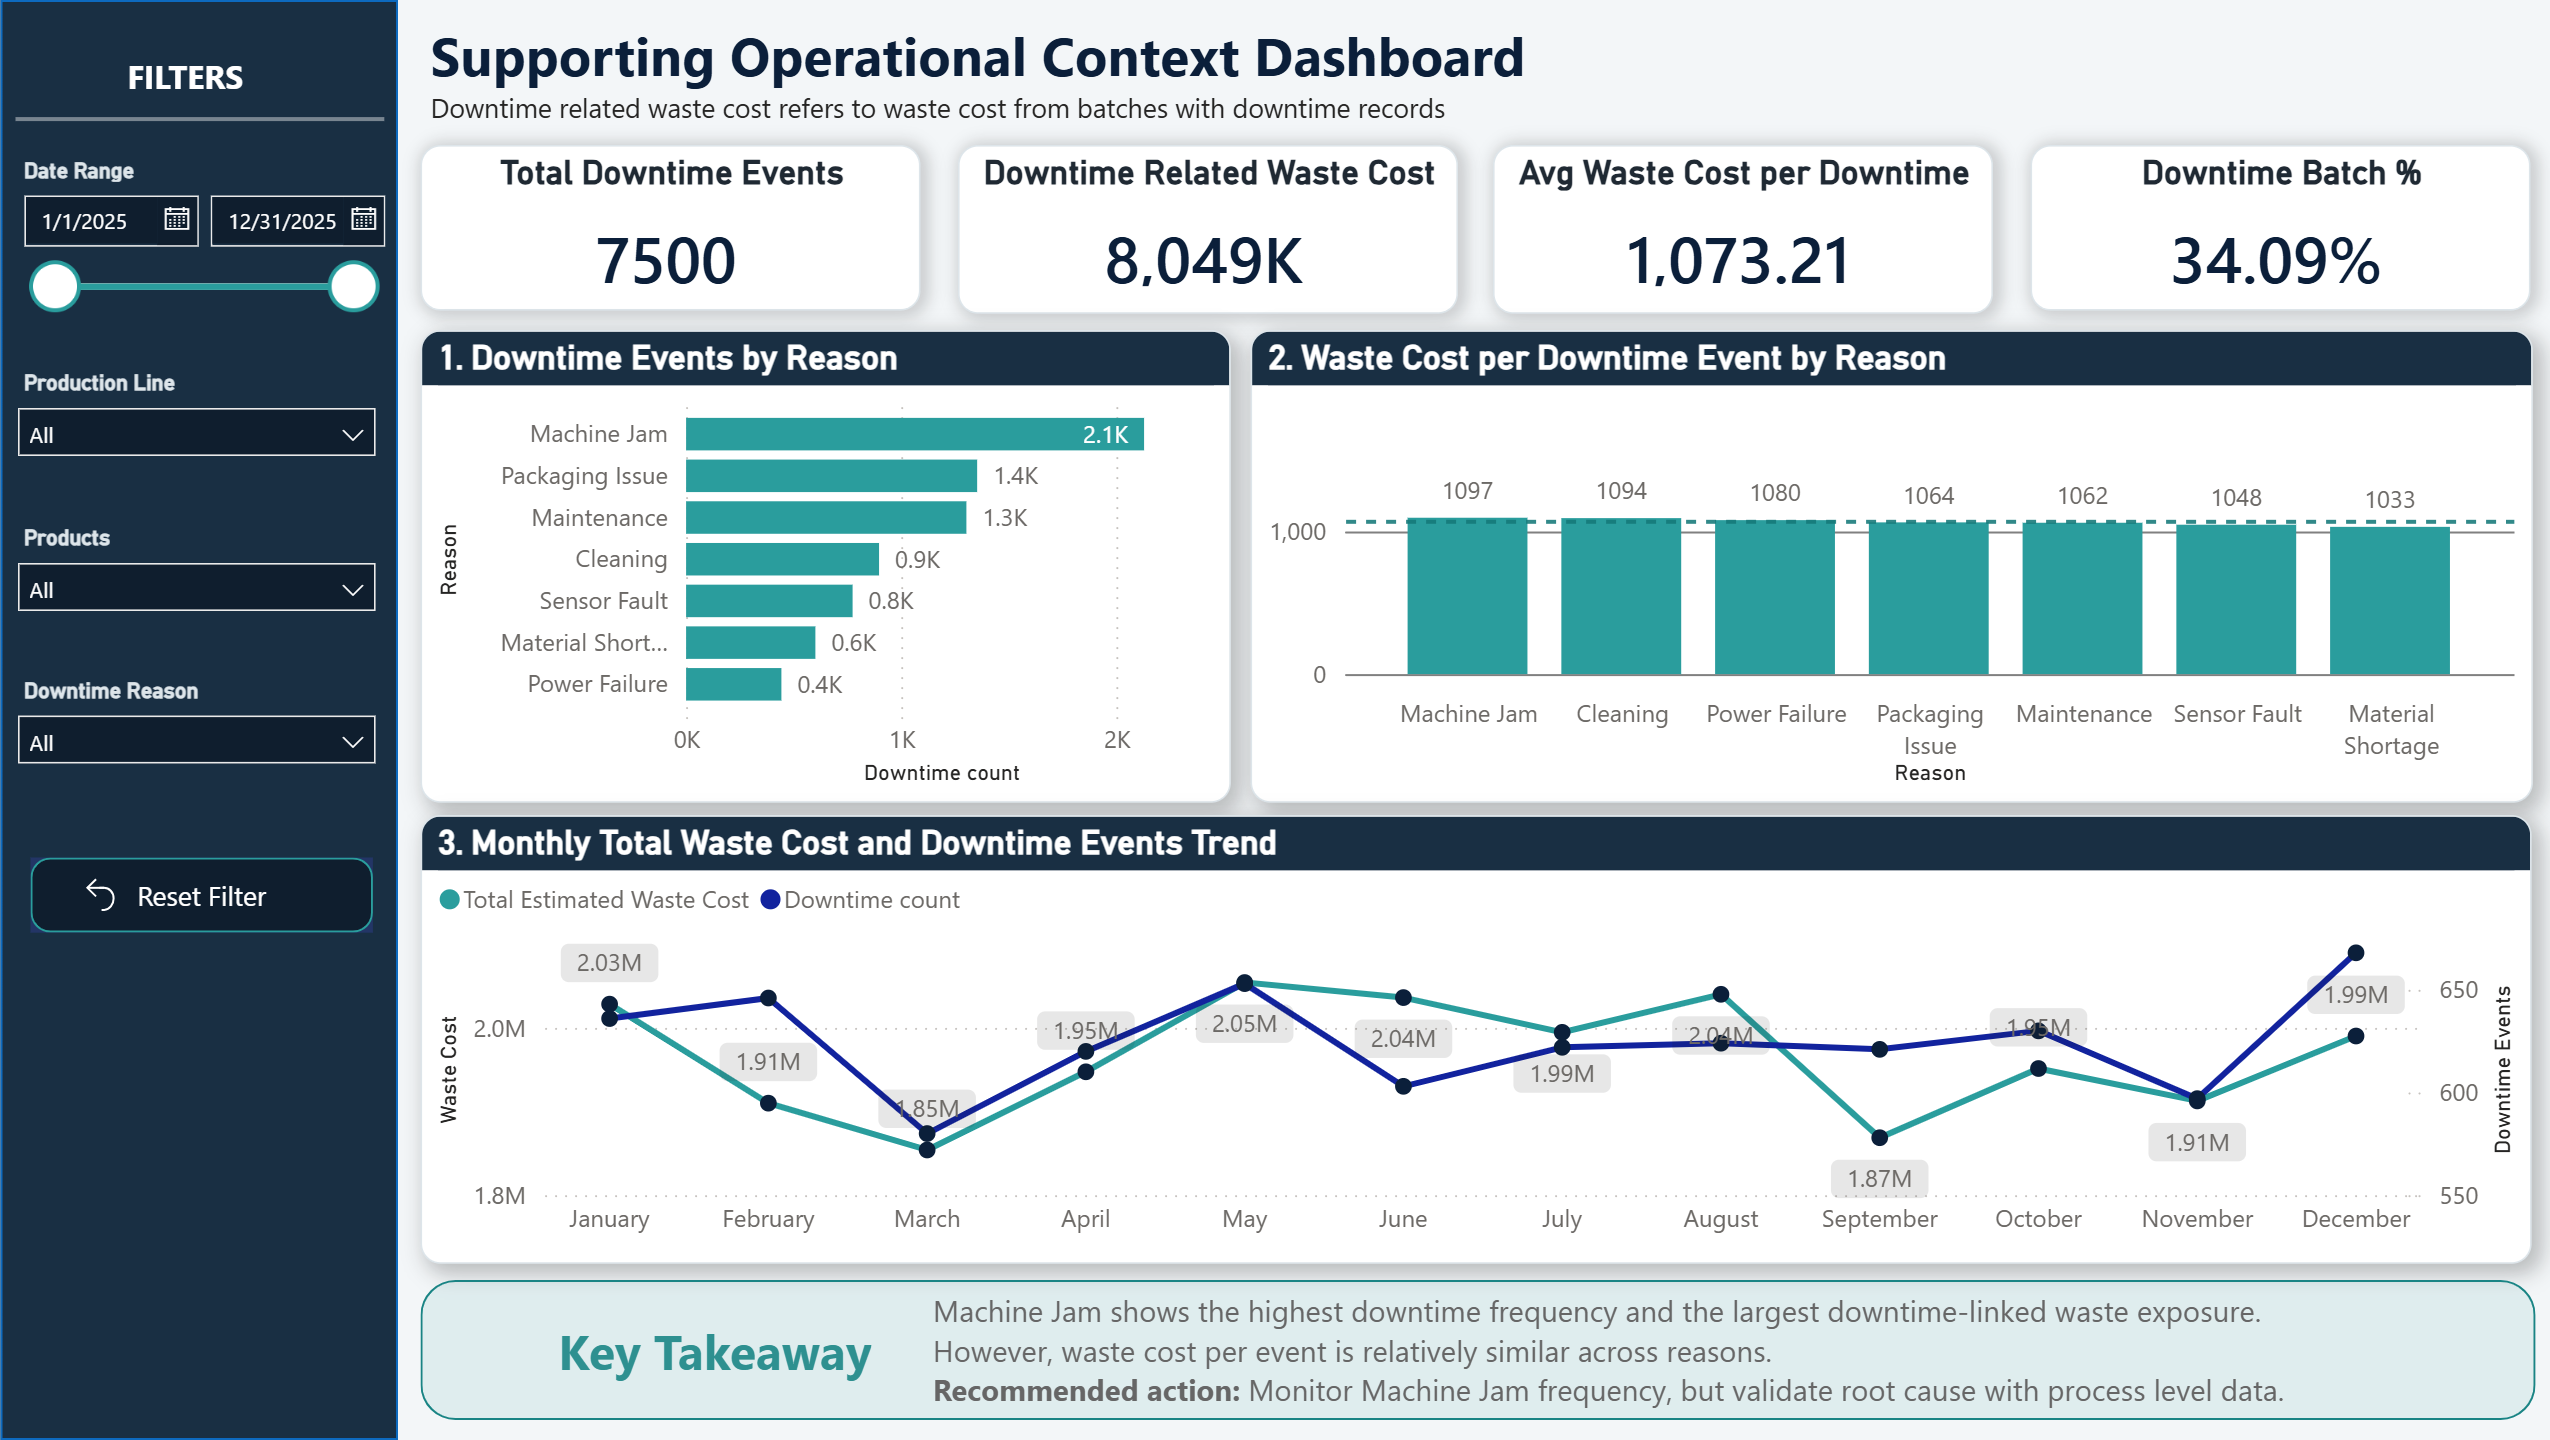

This screenshot's page, from the dashboard's own definition file:
{"tool":"powerbi","page":{"name":"supporting ","canvas":[1280,720],"ordinal":1},"visuals":[{"type":"shape","box":[1.2,0,198.8,720],"z":0},{"type":"textbox","box":[211.4,4.3,1067.1,68.6],"z":1000},{"type":"actionButton","box":[0,17.3,187.3,40],"z":2000},{"type":"slicer","title":"cfdffddfd","fields":{"Values":["01_production_log.Production_date"]},"box":[0,73.8,198.8,91.2],"z":3000},{"type":"slicer","fields":{"Values":["01_production_log.Production_line"]},"box":[0,180,198.8,71.2],"z":4000},{"type":"slicer","fields":{"Values":["03_products.Product_name"]},"box":[0,257.5,198.8,61.2],"z":5000},{"type":"actionButton","box":[16.2,428.8,171.2,37.5],"z":6000},{"type":"cardVisual","title":"Total Downtime Events","fields":{"Data":["Measure.Downtime count"]},"box":[210.9,72.4,250,82.9],"z":7000},{"type":"cardVisual","title":"Downtime Related Waste Cost","fields":{"Data":["Measure.Estimated Waste Cost for Downtime"]},"box":[479.4,72.4,250,84.3],"z":8000},{"type":"cardVisual","title":"Avg Waste Cost per Downtime","fields":{"Data":["Measure.waste cost per downtime event"]},"box":[748,72.4,250,84.3],"z":9000},{"type":"barChart","title":"1. Downtime Events by Reason","fields":{"Category":["02_downtime_log.Reason"],"Y":["Measure.Downtime count"]},"box":[210.7,165.4,405,236.2],"z":10000},{"type":"clusteredColumnChart","title":"2. Waste Cost per Downtime Event by Reason","fields":{"Category":["02_downtime_log.Reason"],"Y":["Measure.waste cost per downtime event"]},"box":[625.7,165.4,641.2,236.2],"z":11000},{"type":"lineChart","title":"3. Monthly Total Waste Cost and Downtime Events Trend","fields":{"Y":["Measure.Total Estimated Waste Cost"],"Y2":["Measure.Downtime count"],"Category":["01_production_log.Production_date.Variation.Date Hierarchy.Quarter","01_production_log.Production_date.Variation.Date Hierarchy.Month","01_production_log.Production_date.Variation.Date Hierarchy.Day"]},"box":[211.4,407.1,1055.7,224.3],"z":12000},{"type":"shape","box":[8.2,30,184.5,59.1],"z":13000},{"type":"slicer","fields":{"Values":["02_downtime_log.Reason"]},"box":[0,333.8,198.8,61.2],"z":14000},{"type":"cardVisual","title":"Downtime Batch %","fields":{"Data":["Measure.downtime rate"]},"box":[1016.6,72.4,250,82.9],"z":15000},{"type":"actionButton","title":"Key Takeaway","box":[238,652,242,45],"z":16000},{"type":"shape","box":[211.2,640,1057.5,70],"z":17000},{"type":"textbox","box":[462,640,818,70],"z":18000}]}

Visuals, with their boxes in screenshot pixels (x1, y1, x2, y2), scaled from the page's 1280x720 canvas onto the 2550x1440 screenshot:
shape: [2, 0, 398, 1439]
textbox: [421, 9, 2547, 146]
actionButton: [0, 35, 373, 115]
"cfdffddfd" slicer: [0, 148, 396, 330]
slicer - 01_production_log.Production_line: [0, 360, 396, 502]
slicer - 03_products.Product_name: [0, 515, 396, 637]
actionButton: [32, 858, 373, 933]
"Total Downtime Events" cardVisual: [420, 145, 918, 311]
"Downtime Related Waste Cost" cardVisual: [955, 145, 1453, 313]
"Avg Waste Cost per Downtime" cardVisual: [1490, 145, 1988, 313]
"1. Downtime Events by Reason" barChart: [420, 331, 1227, 803]
"2. Waste Cost per Downtime Event by Reason" clusteredColumnChart: [1247, 331, 2524, 803]
"3. Monthly Total Waste Cost and Downtime Events Trend" lineChart: [421, 814, 2524, 1263]
shape: [16, 60, 384, 178]
slicer - 02_downtime_log.Reason: [0, 668, 396, 790]
"Downtime Batch %" cardVisual: [2025, 145, 2523, 311]
"Key Takeaway" actionButton: [474, 1304, 956, 1394]
shape: [421, 1280, 2527, 1420]
textbox: [920, 1280, 2549, 1420]
